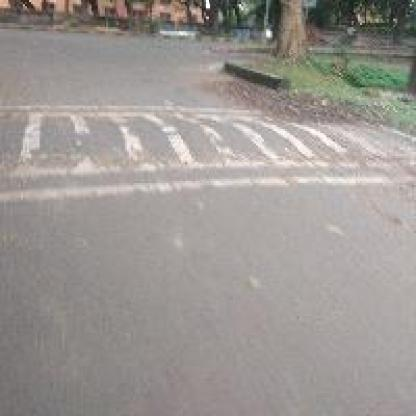Speed Bump: (0, 100, 385, 202)
